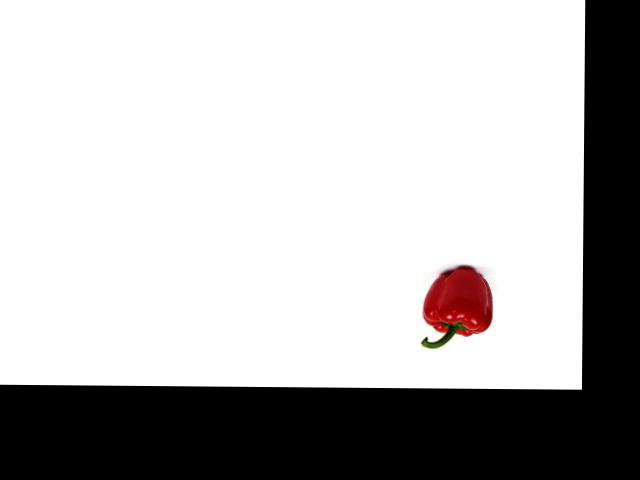bell_pepper: (417, 265, 498, 350)
